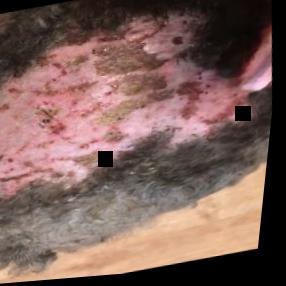skin_lesions: (0, 0, 278, 208)
